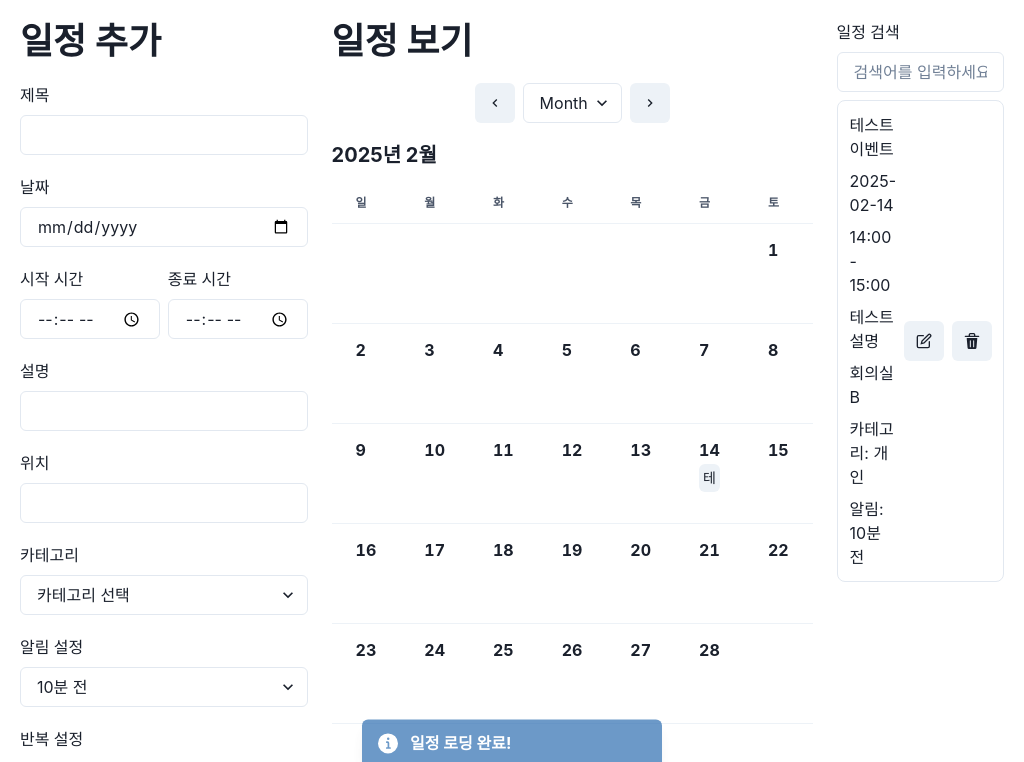
일정 뷰 › 주별 뷰를 선택 후 해당 주에 일정이 없으면, 일정이 표시되지 않는다.
Check: the heading "2025년 2월" is shown, box 332,143 -> 437,167
Select "Week" in the dropdown named "view": (572,103) 523,83 -> 622,123
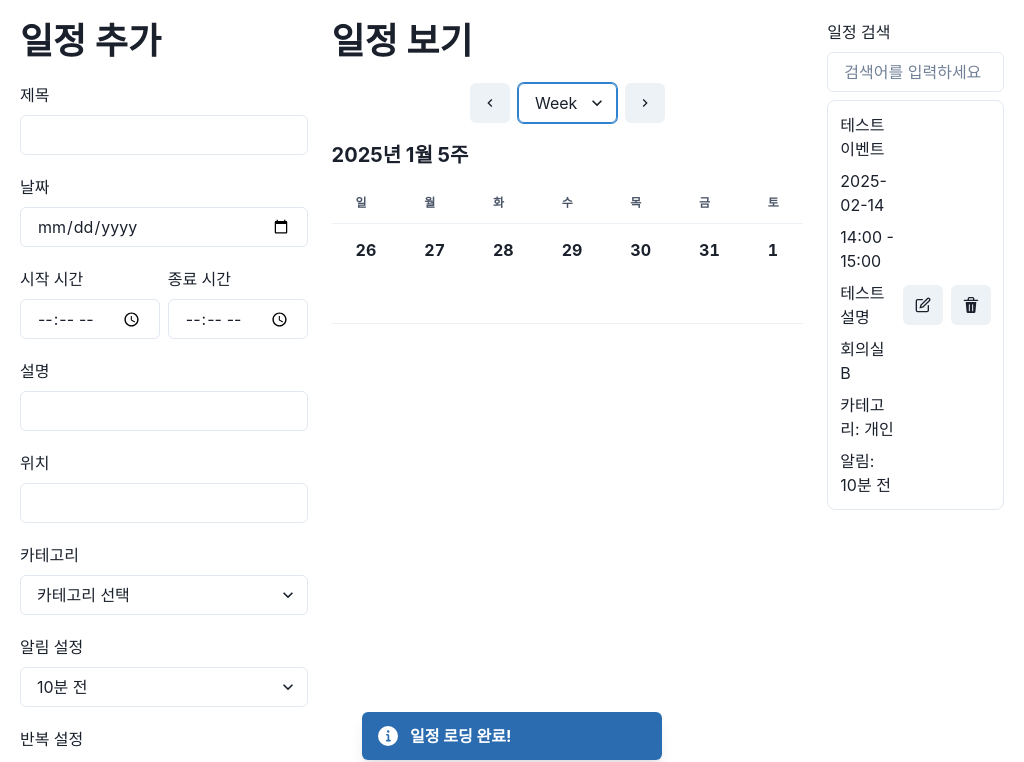
Check: the element with test id "week-view" does not show "테스트 이벤트", box 332,143 -> 803,324
Check: the element with test id "week-view" is shown, box 332,143 -> 803,324
